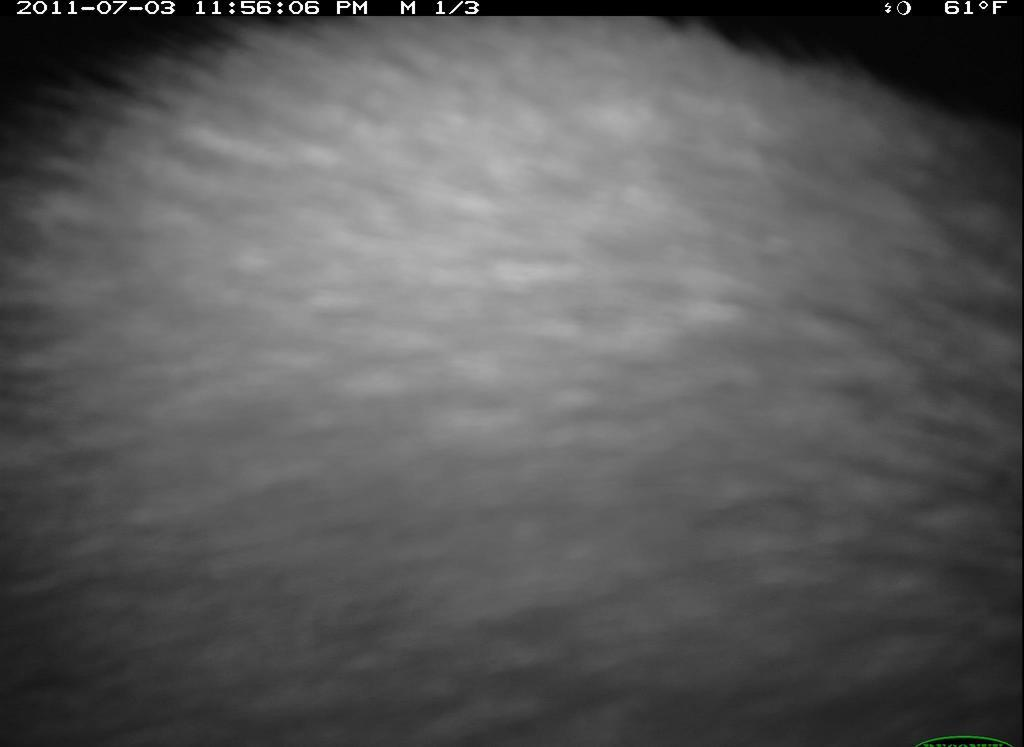raccoon: (91, 29, 1003, 747)
